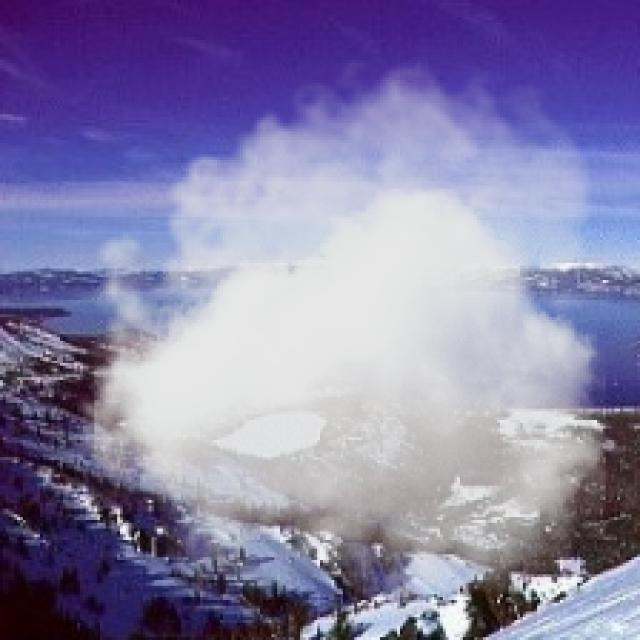smoke: (60, 46, 606, 594)
